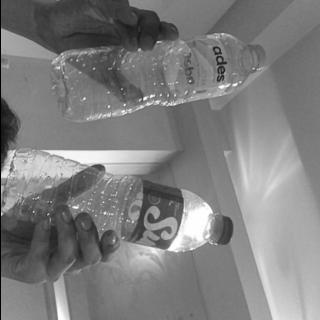plastic_bottles: (0, 148, 233, 252), (48, 32, 267, 122)
